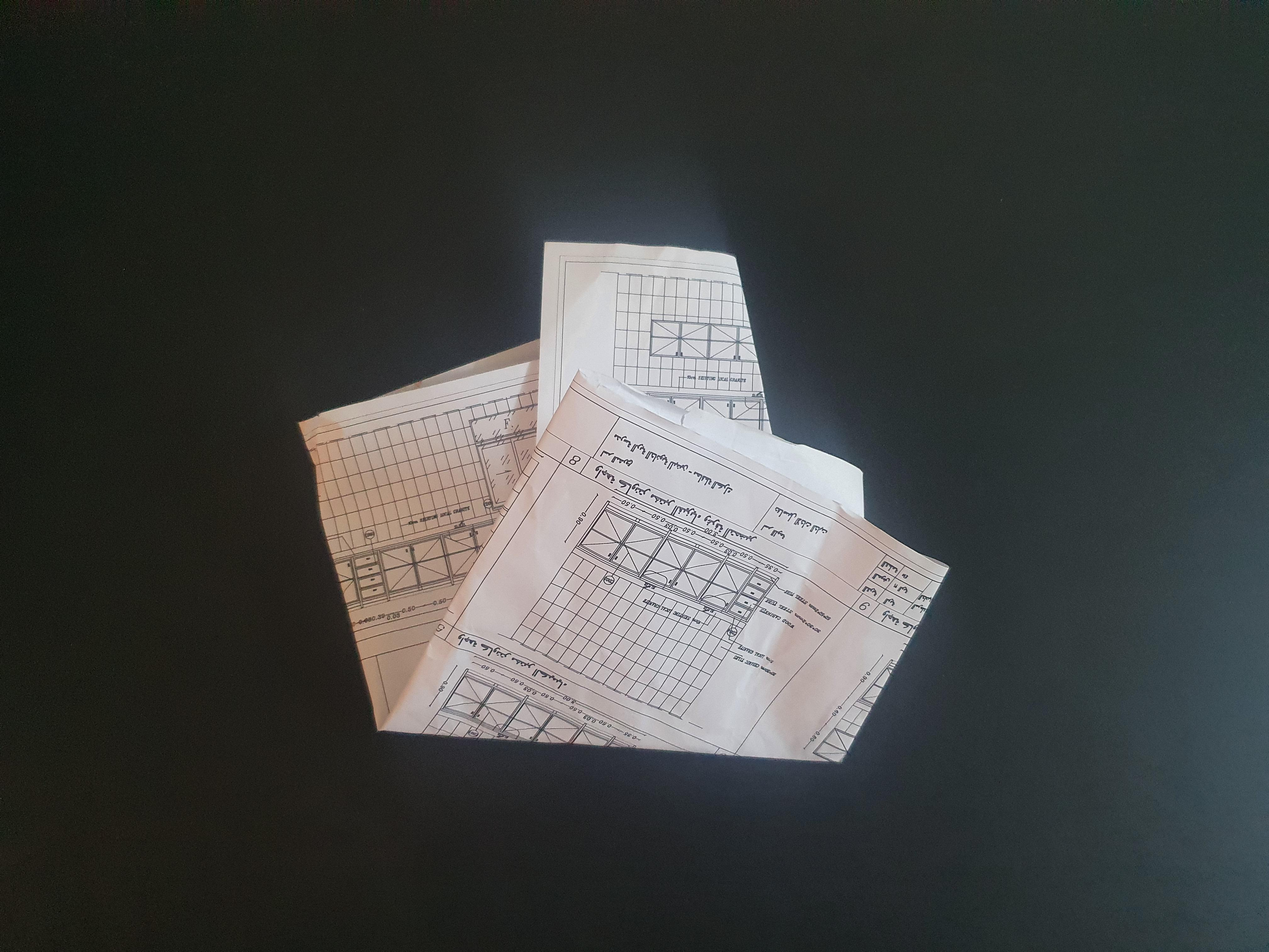paper: (299, 249, 924, 764)
